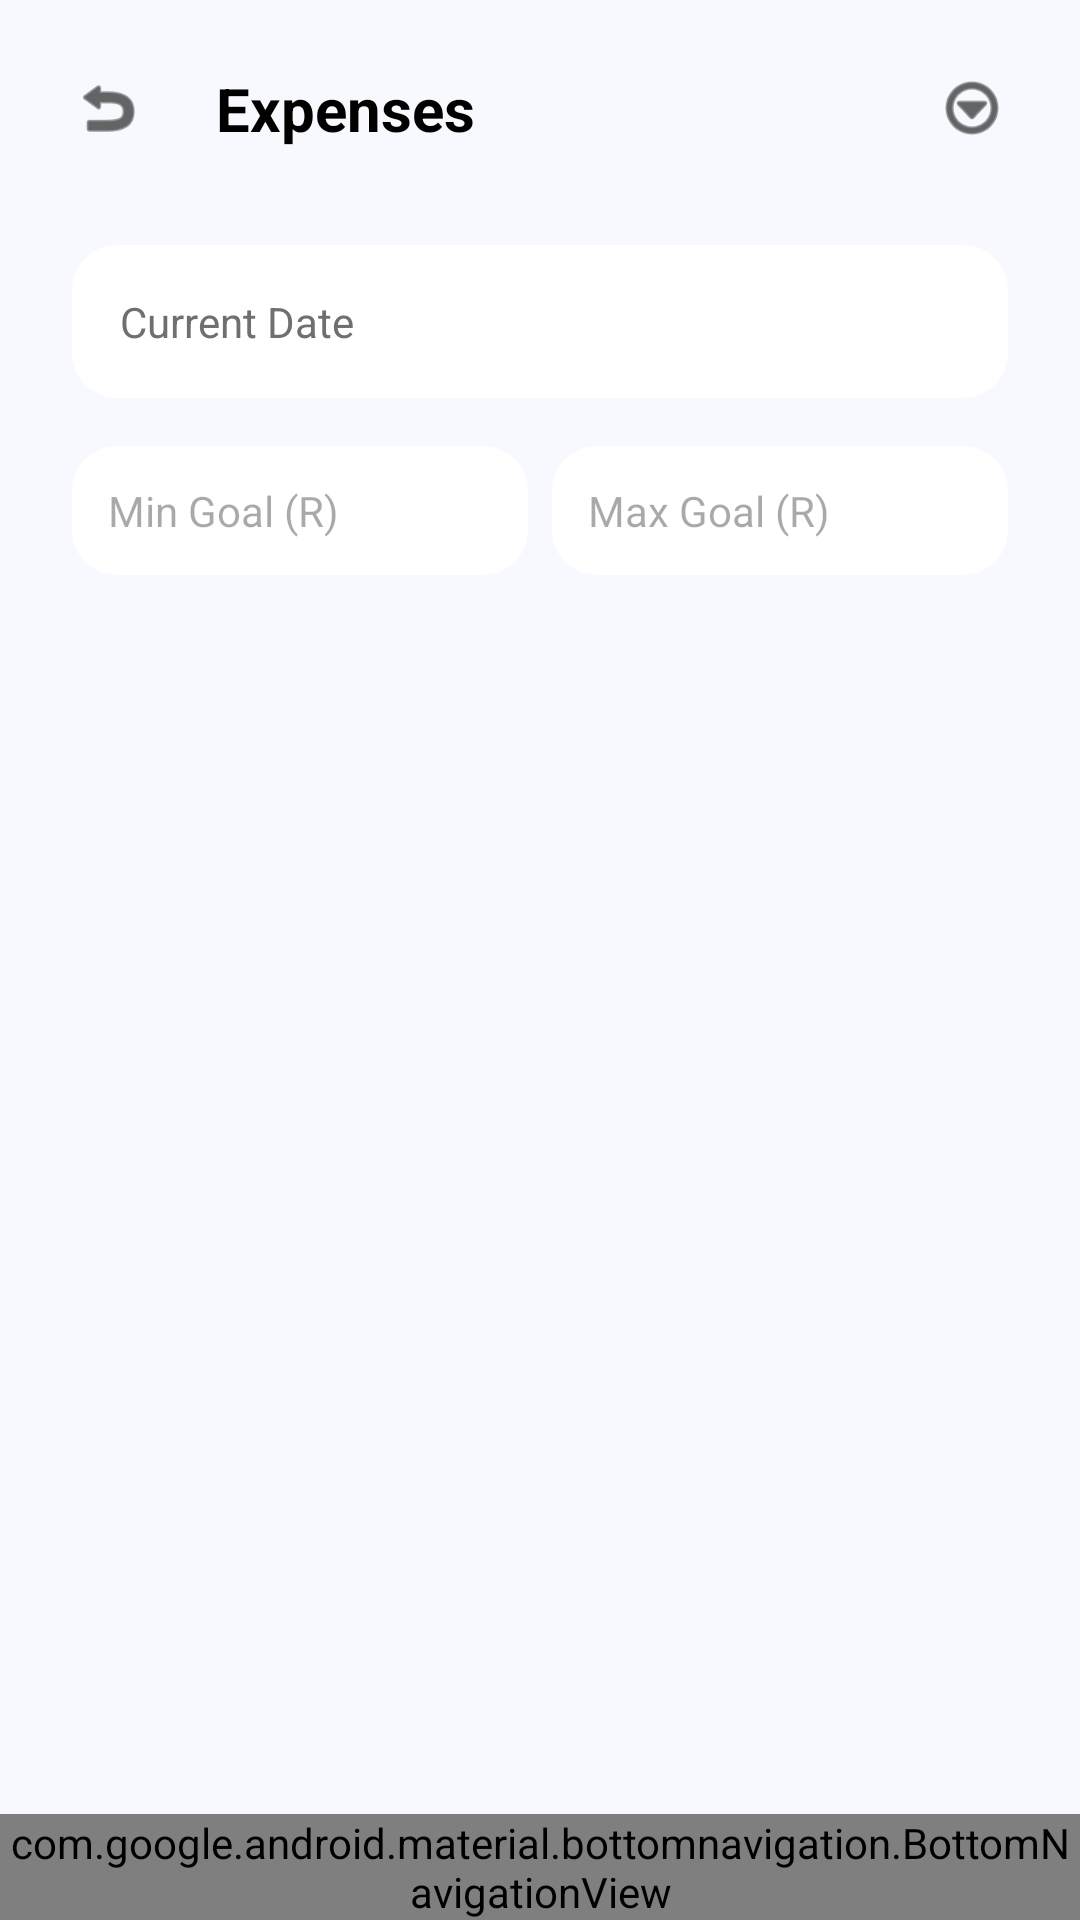

Screen size 1080×1920. Icon name, then its box in pixels as BBox(x1, y1, x2, y2):
more: BBox(945, 81, 999, 135)
revert: BBox(83, 85, 135, 132)
